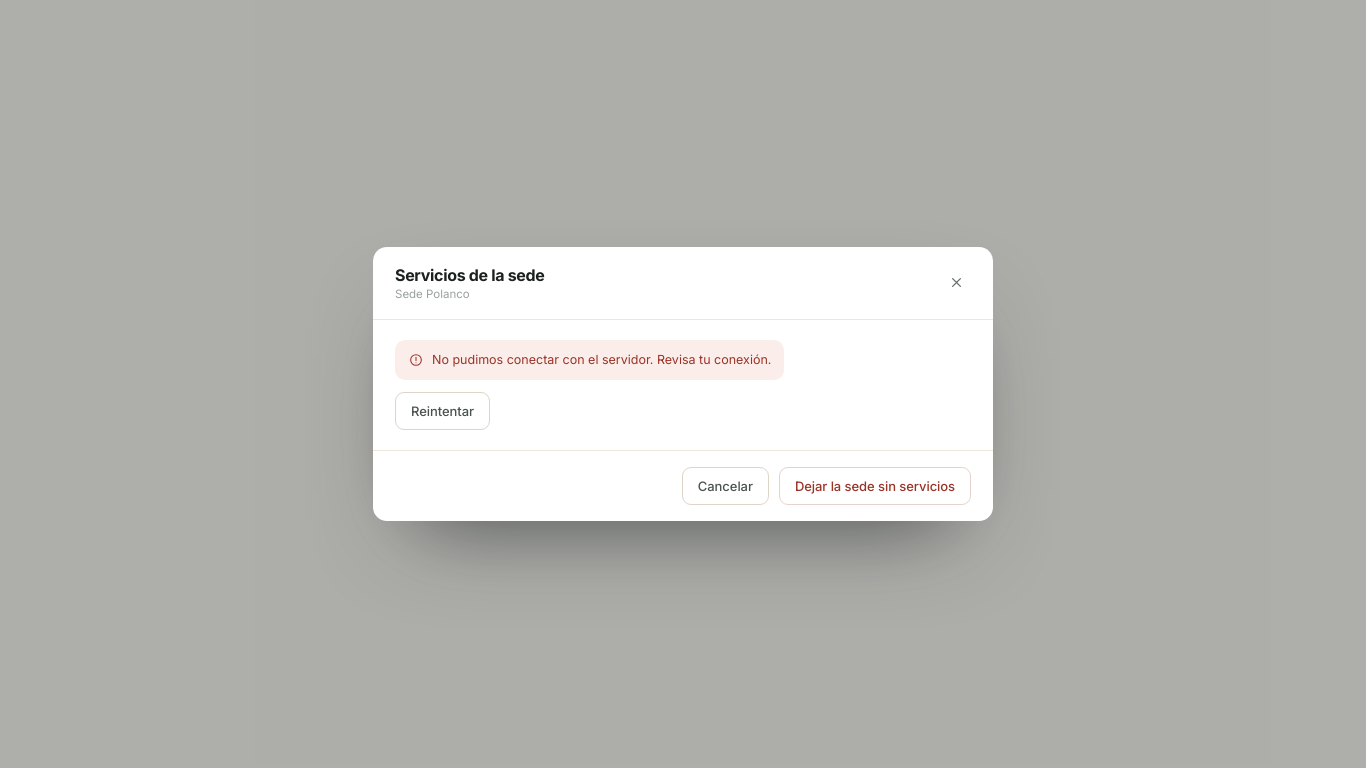
LocationServicesModal loading › shows a retryable error when the lists cannot be read
Expected: the text "No pudimos conectar con el servidor. Revisa tu conexión." is shown, [432, 351, 771, 369]
Click the button "Reintentar".
click(442, 411)  # box [395, 392, 490, 430]
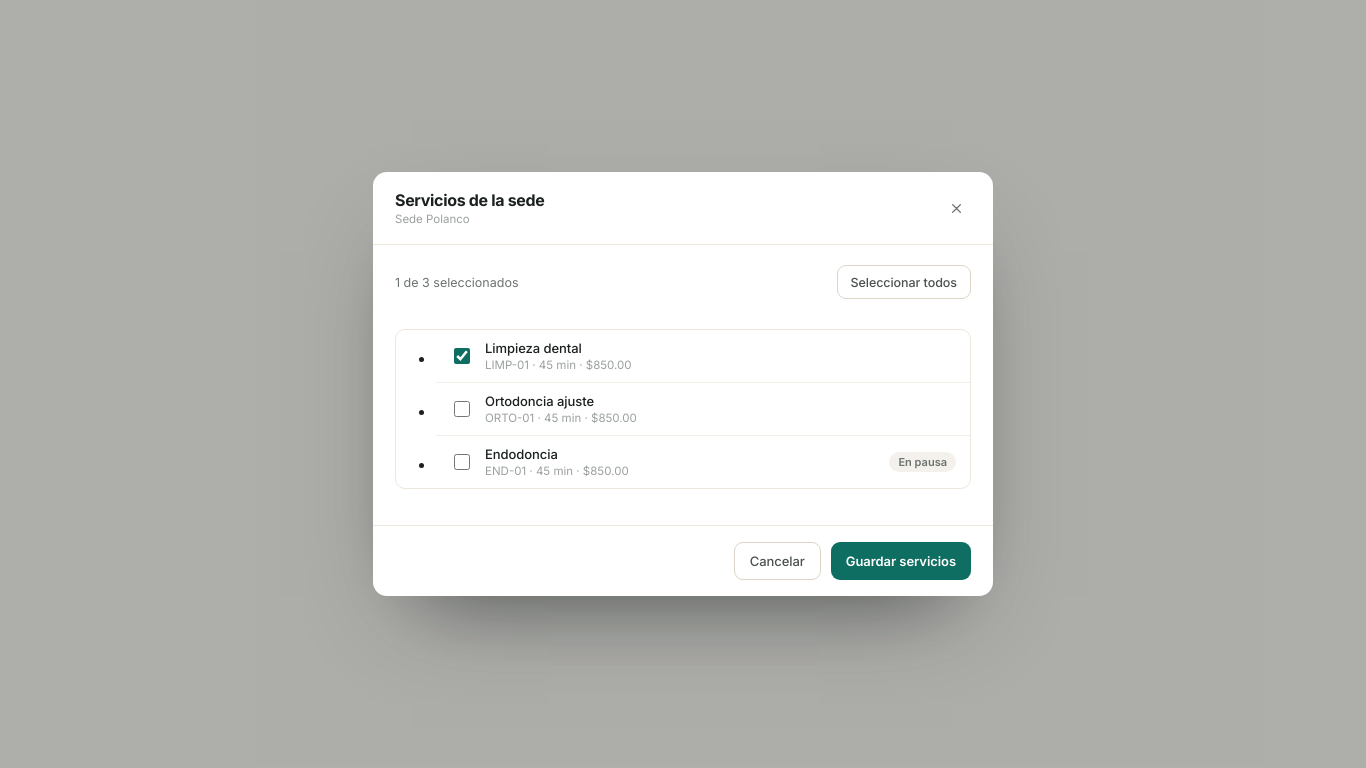
Expected: the checkbox labelled "Limpieza dental LIMP-01 · 45 min · $850.00" is shown, [454, 348, 470, 364]
